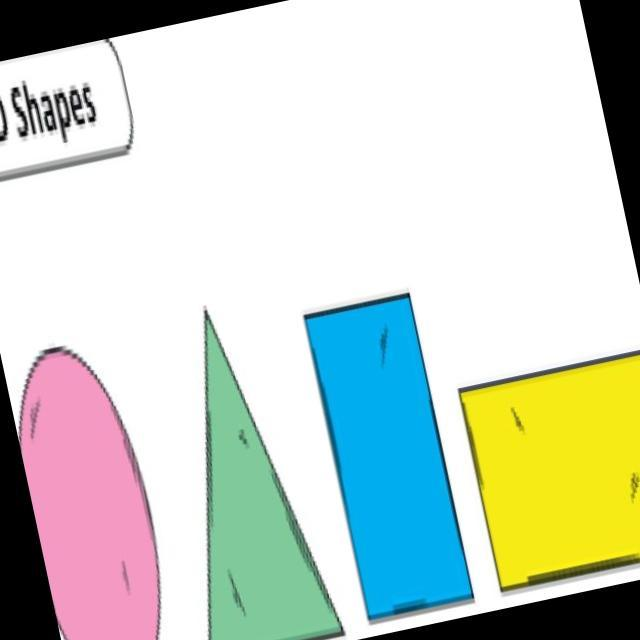circle: (12, 329, 166, 640)
square: (297, 282, 478, 629), (443, 333, 640, 594)
triangle: (190, 296, 348, 640)
